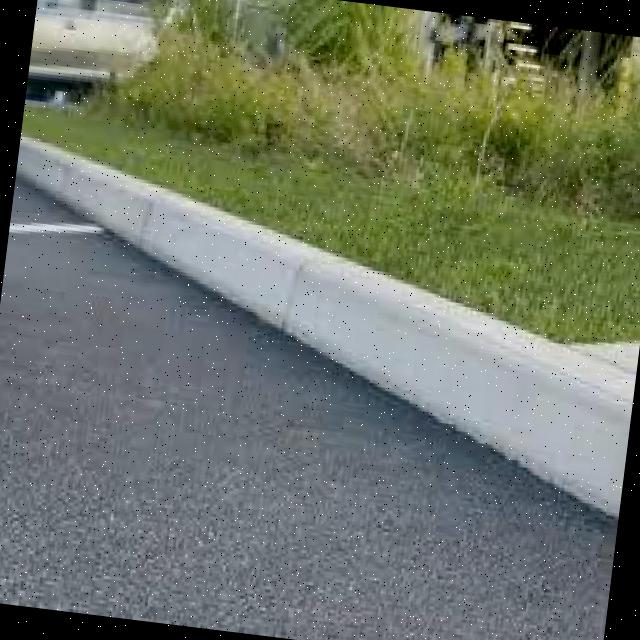curb: (16, 135, 636, 515)
